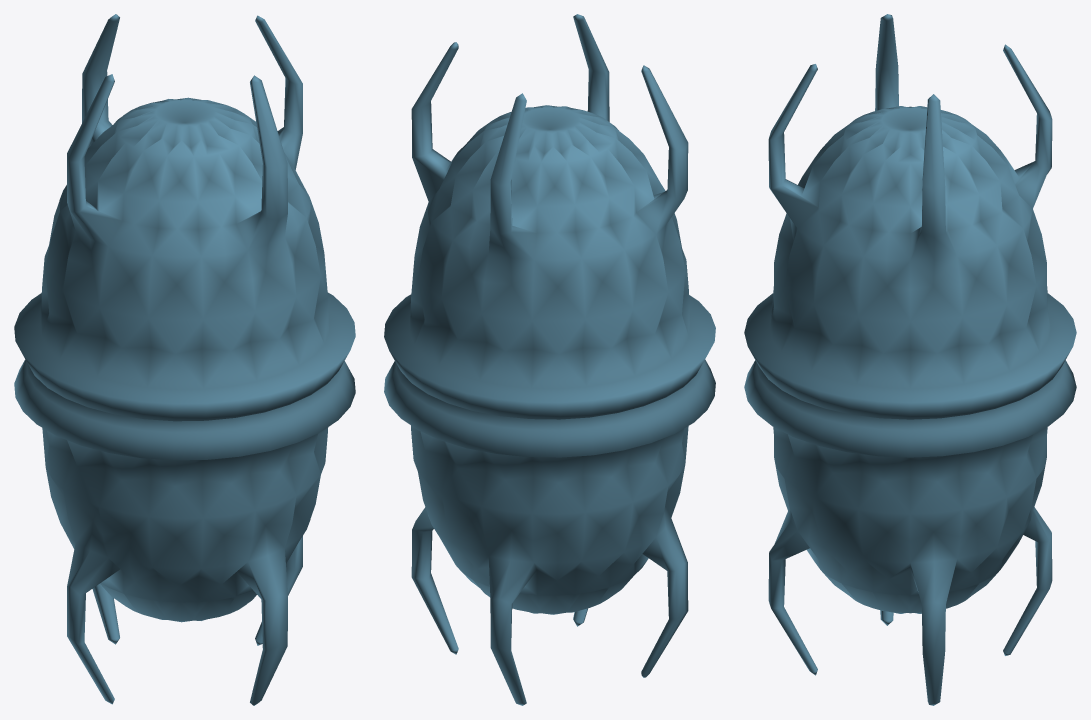
The model's file is microscopic-plankton-horned-diatom_v1.fbx.
3 renders of one model, left to right at view 1: azimuth 30°, elevation 25°; view 2: azimuth 150°, elevation 25°; view 3: azimuth 270°, elevation 25°, orthographic. The views are drawn at different scales.
Parts seen in each view (by area): view 1: Horned Diatom; view 2: Horned Diatom; view 3: Horned Diatom.
Part boxes in pixels (x1,y1,x2,y2): Horned Diatom: (14,14,355,705); Horned Diatom: (384,14,715,705); Horned Diatom: (744,14,1076,705).
Bounding box in the file's own units: 0.2461 × 0.5 × 0.2461.
